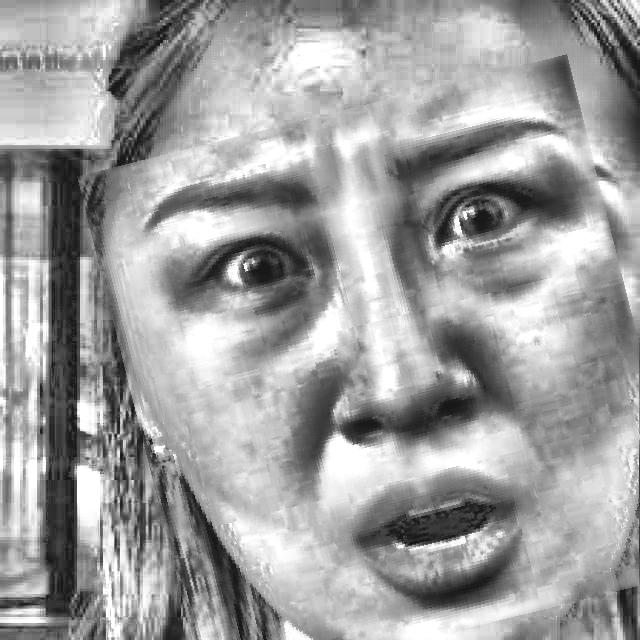fear: (105, 80, 640, 640)
